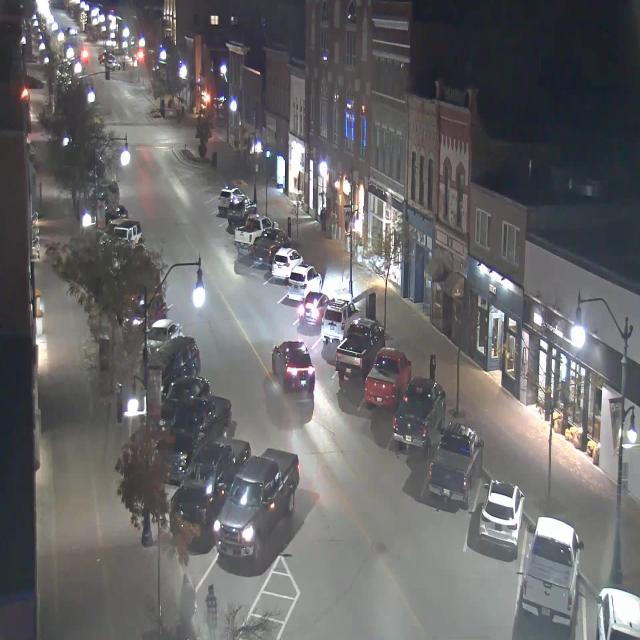occupied: (213, 447, 299, 560), (169, 436, 251, 538), (521, 514, 584, 629), (428, 420, 484, 510), (166, 394, 240, 461), (392, 374, 446, 458), (478, 478, 525, 555), (334, 316, 386, 381), (364, 346, 412, 410), (595, 586, 640, 639), (162, 364, 217, 406), (158, 336, 206, 378), (320, 294, 354, 351), (250, 226, 286, 274), (233, 212, 263, 258), (286, 263, 322, 301), (272, 247, 305, 286), (297, 289, 330, 327), (227, 194, 257, 227), (215, 182, 241, 217)
